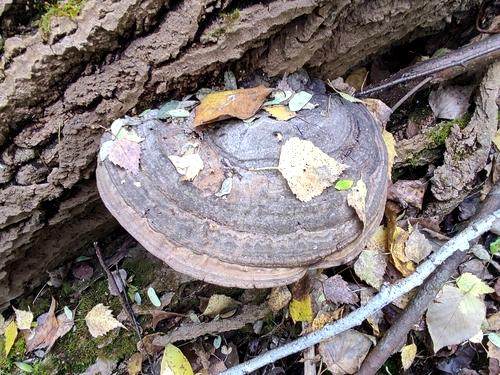Ganoderma - Fruit Body: (95, 79, 393, 289)
